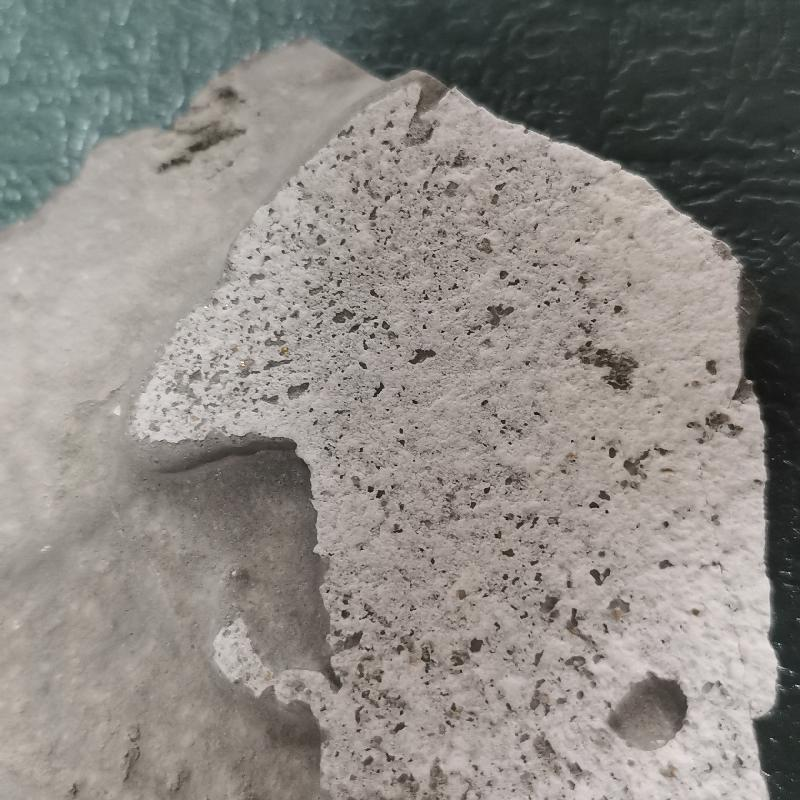tile: (9, 37, 790, 800)
